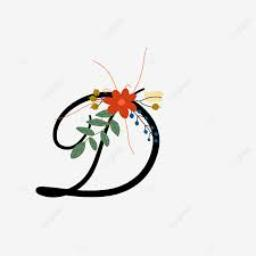d: (78, 87, 166, 213)
